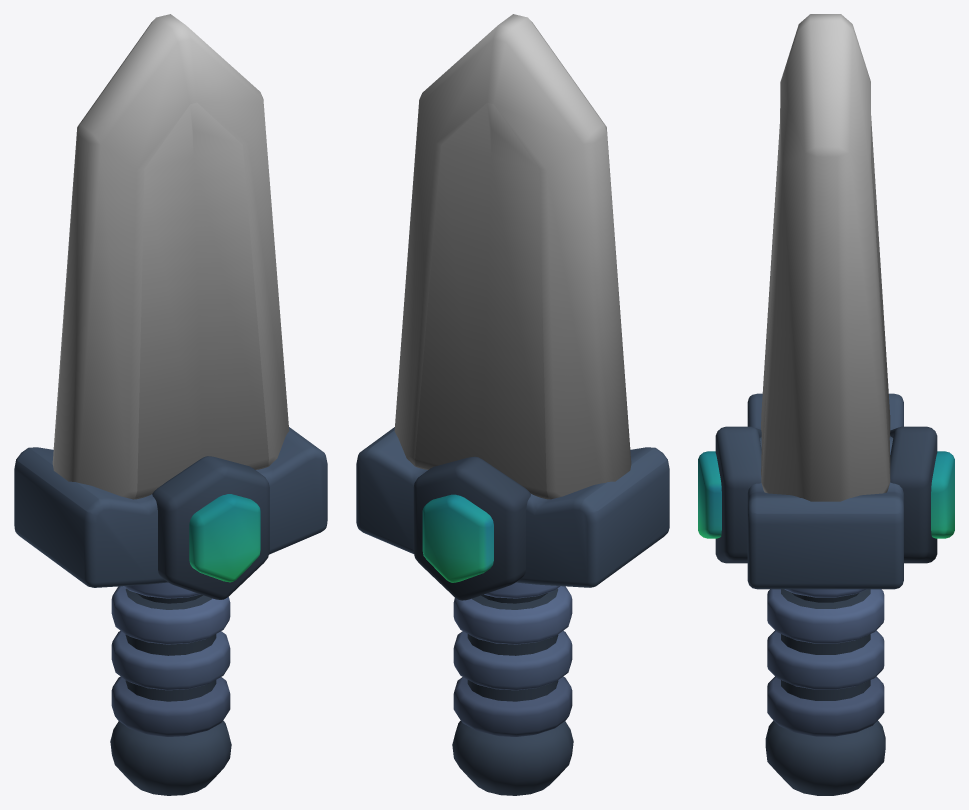
The model's file is Sword_V1_0.fbx.
The picture shows the model from 3 angles, left to right: view 1: azimuth 30°, elevation 25°; view 2: azimuth 150°, elevation 25°; view 3: azimuth 270°, elevation 25°; orthographic projection.
Parts seen in each view (by area): view 1: Sword_V1_0; view 2: Sword_V1_0; view 3: Sword_V1_0.
Boxes of the visible parts, box(x1,y1,x2,y2) form: Sword_V1_0: box(14, 14, 327, 795); Sword_V1_0: box(356, 14, 669, 795); Sword_V1_0: box(698, 14, 954, 795).
Bounding box in the file's own units: 0.2068 × 0.6214 × 0.189.
